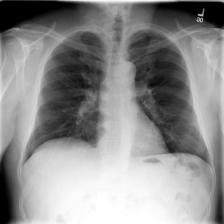normal: (20, 26, 214, 169)
